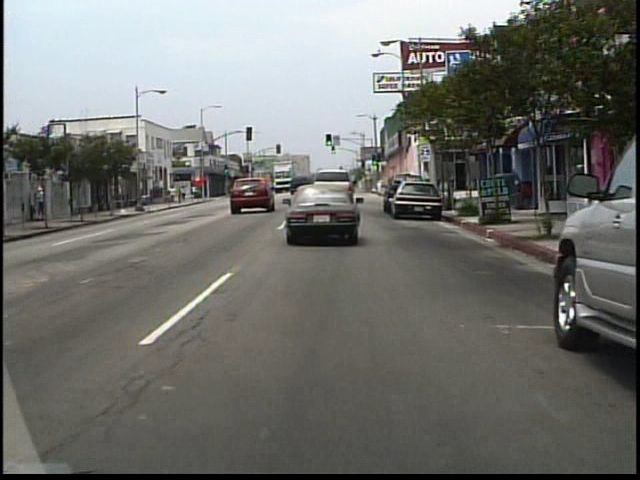person: (38, 183, 49, 220), (170, 185, 177, 204), (179, 185, 184, 204)
